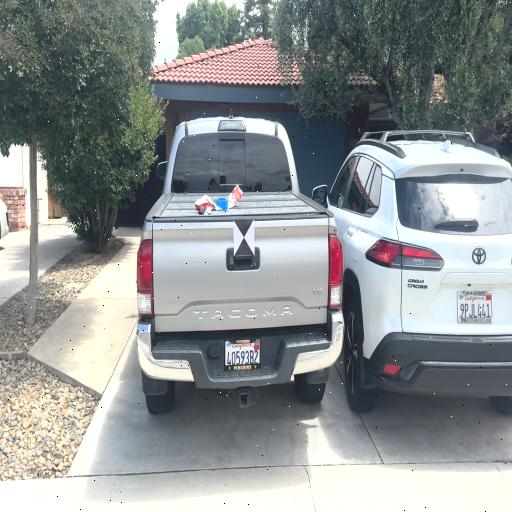target: (234, 219, 254, 256)
